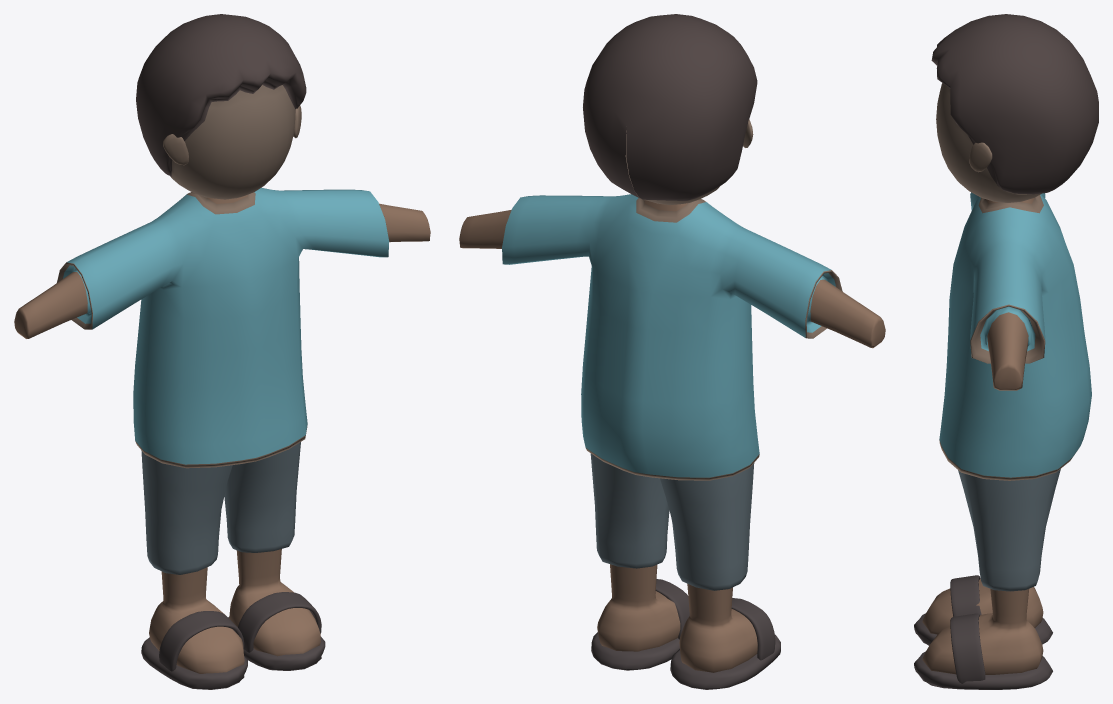
The model's file is bullied_boy.fbx.
The picture shows the model from 3 angles, left to right: view 1: azimuth 30°, elevation 25°; view 2: azimuth 150°, elevation 25°; view 3: azimuth 270°, elevation 25°; orthographic projection. The views are drawn at different scales.
Visible parts, largest first — view 1: pCube5, pCube7, pCube12, pCube11, pCube13, pCube10; view 2: pCube5, pCube7, pCube13, pCube10, pCube12, pCube11; view 3: pCube5, pCube7, pCube10, pCube11, pCube12, pCube13, pCube8.
Part boxes in pixels (x1,y1,x2,y2): pCube5: (14,187,430,673); pCube7: (136,14,306,199); pCube12: (159,611,244,671); pCube11: (238,592,321,652); pCube13: (141,637,247,689); pCube10: (228,617,325,670); pCube5: (459,194,885,672); pCube7: (583,14,757,204); pCube13: (670,634,780,689); pCube10: (591,632,679,670); pCube12: (731,598,775,660); pCube11: (655,579,689,639); pCube5: (922,192,1091,674); pCube7: (931,14,1098,202); pCube10: (914,651,1052,689); pCube11: (950,613,985,683); pCube12: (950,575,981,616); pCube13: (914,613,1052,645); pCube8: (969,142,992,172).
Size of the model in its own units: 9.5 by 14.01 by 3.71.
